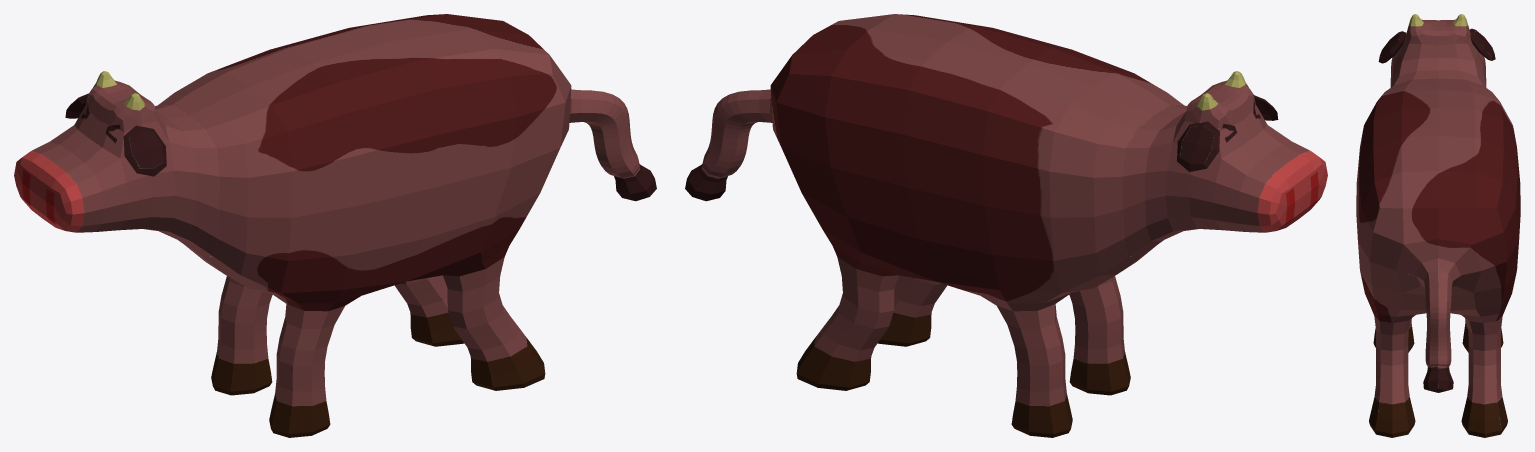
File: Vaca.fbx
3 renders of one model, left to right at view 1: azimuth 30°, elevation 25°; view 2: azimuth 150°, elevation 25°; view 3: azimuth 270°, elevation 25°, orthographic. The views are drawn at different scales.
Visible parts, largest first — view 1: Cuerpo, Cabeza, Cola, OrejaI; view 2: Cuerpo, Cabeza, Cola, OrejaD; view 3: Cuerpo, Cabeza, Cola, OrejaI, OrejaD.
Part boxes in pixels (x1,y1,x2,y2): Cuerpo: (158, 14, 571, 437); Cabeza: (14, 71, 219, 256); Cola: (569, 89, 656, 201); OrejaI: (123, 125, 166, 176); Cuerpo: (770, 14, 1183, 437); Cabeza: (1122, 71, 1327, 256); Cola: (685, 89, 772, 201); OrejaD: (1177, 121, 1219, 171); Cuerpo: (1356, 78, 1520, 437); Cabeza: (1390, 14, 1486, 87); Cola: (1416, 258, 1460, 392); OrejaI: (1378, 31, 1406, 63); OrejaD: (1469, 28, 1495, 60).
Size of the model in its own units: 301 by 169 by 90.64.
1 material, 1 textured.
